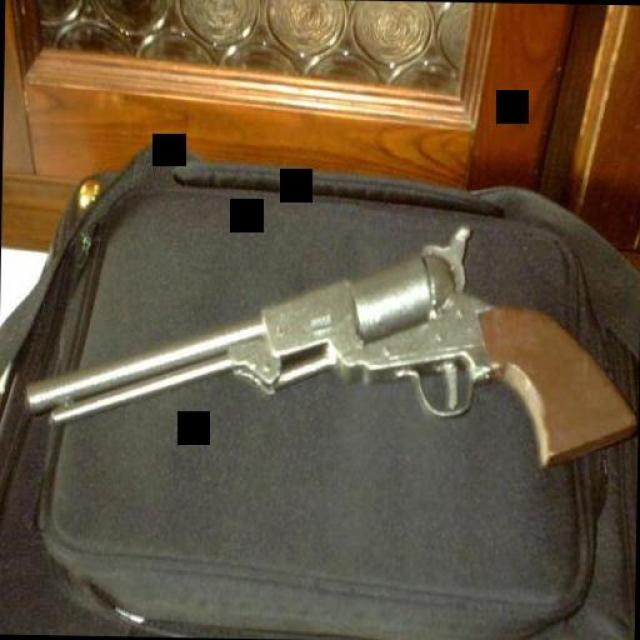gun: (12, 215, 638, 507)
